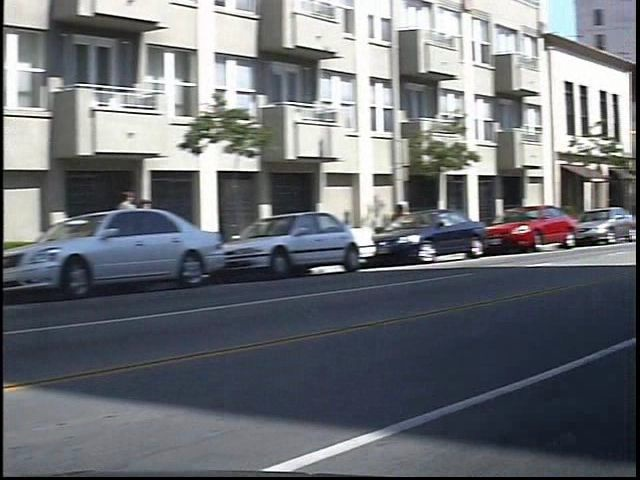person: (131, 183, 155, 263), (150, 195, 172, 259)
